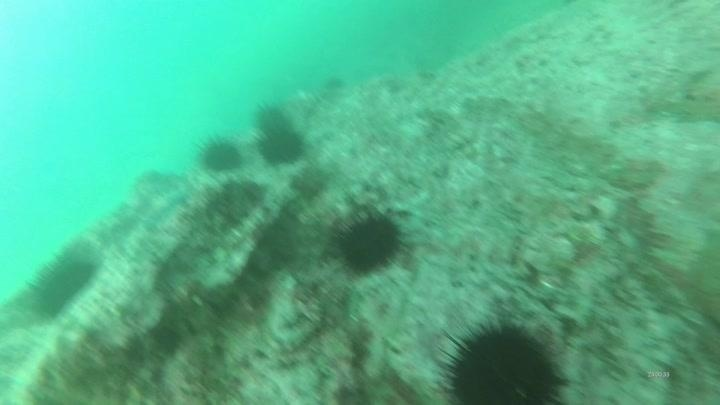echinus: (435, 317, 568, 404), (331, 207, 408, 278), (25, 251, 100, 321), (255, 126, 307, 167), (196, 134, 245, 175), (252, 101, 293, 134)
